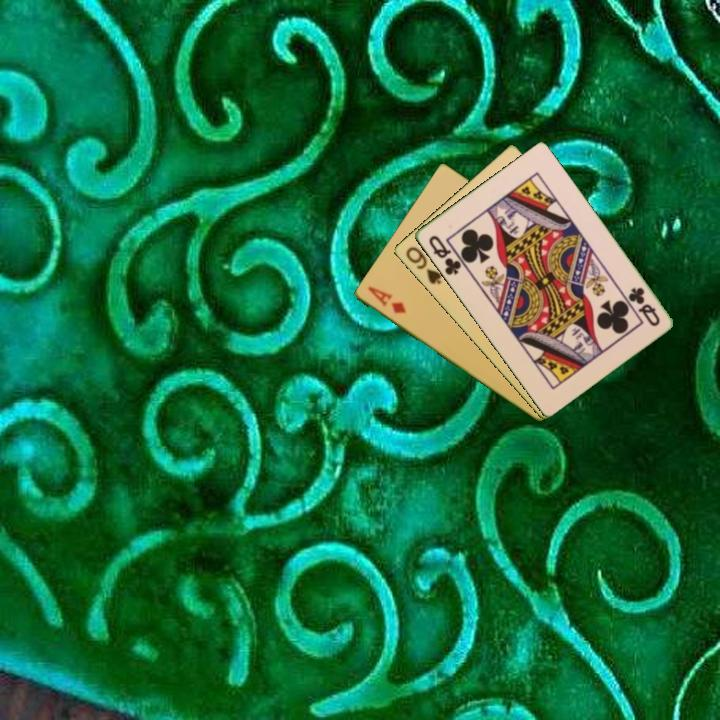9s: (402, 243, 444, 288)
Ad: (364, 283, 409, 317)
Qc: (425, 231, 464, 278), (624, 283, 662, 329)
